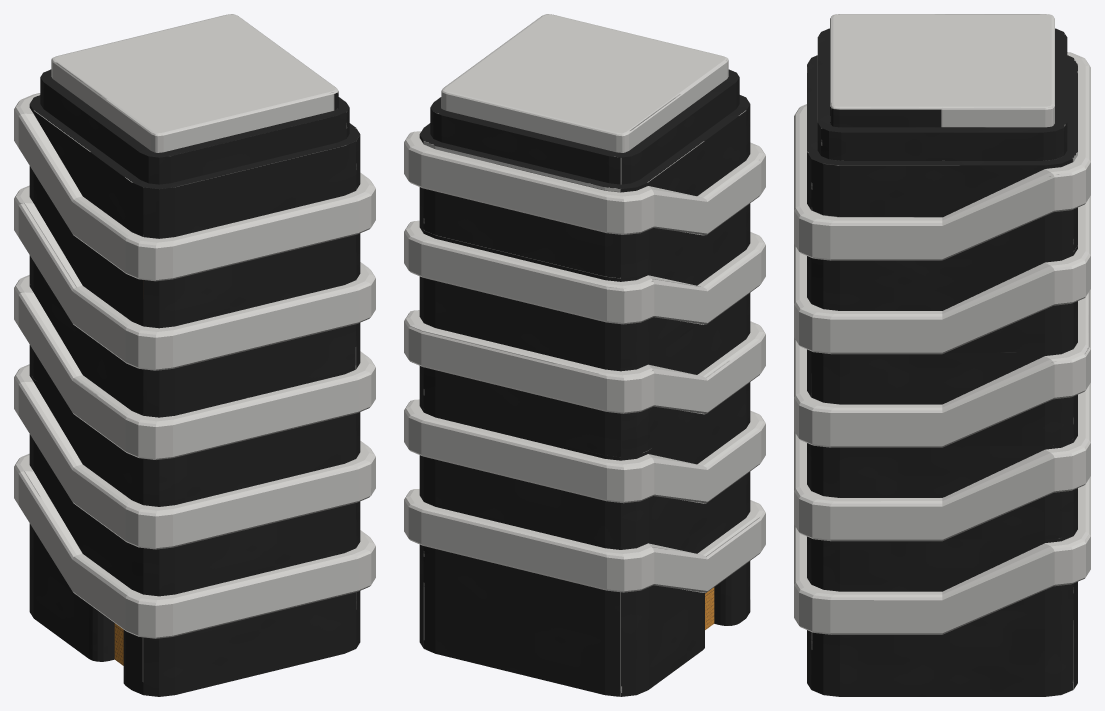
The model's file is Corpo_residencial.fbx.
3 renders of one model, left to right at view 1: azimuth 30°, elevation 25°; view 2: azimuth 150°, elevation 25°; view 3: azimuth 270°, elevation 25°, orthographic. The views are drawn at different scales.
Visible parts, largest first — view 1: Cube.004; view 2: Cube.004; view 3: Cube.004.
Boxes of the visible parts, left/top/right/bottom form: Cube.004: left=14, top=14, right=375, bottom=696; Cube.004: left=404, top=14, right=765, bottom=696; Cube.004: left=794, top=14, right=1090, bottom=696.
Size of the model in its own units: 4229 by 9107 by 4229.
Materials: 1 (1 with a texture image).
